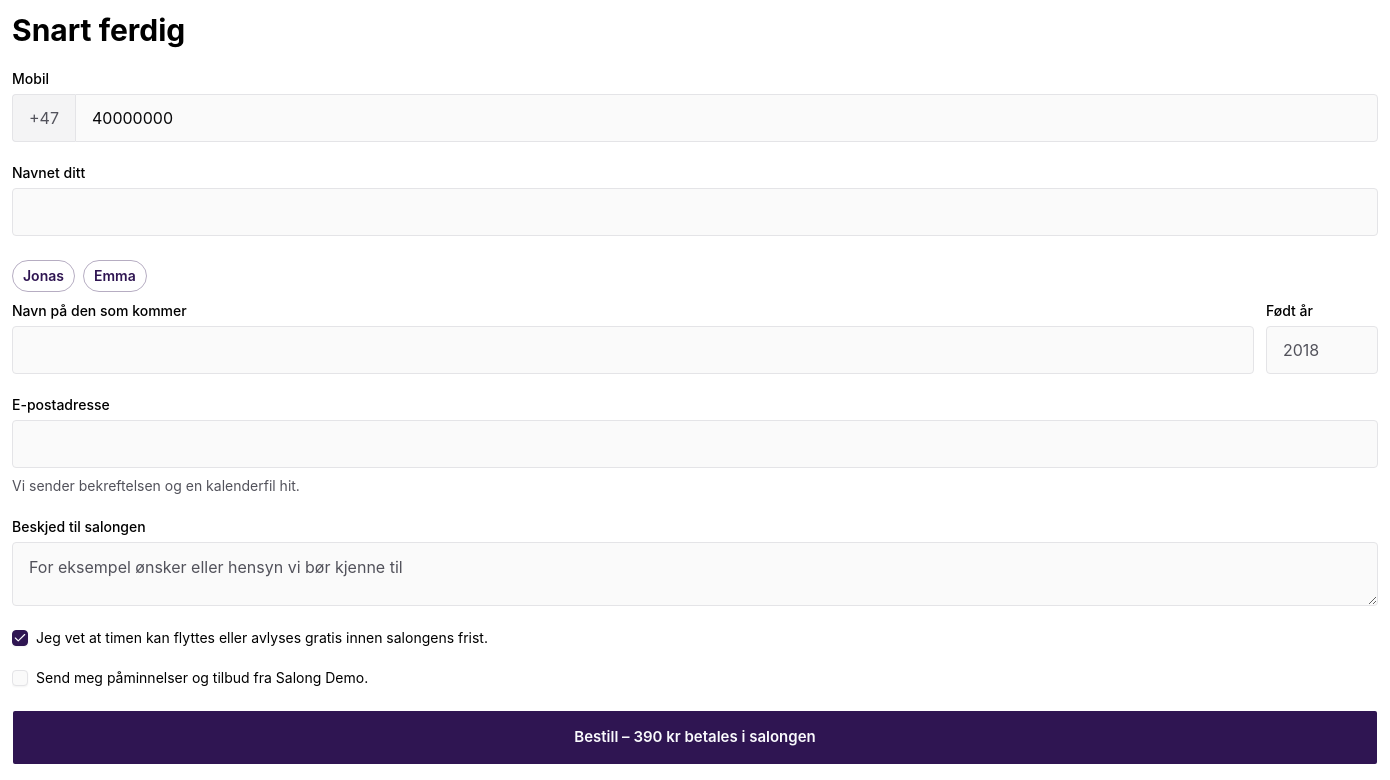
Test: DetailsScreen › the profile suggestions › fills both fields from one tap
Click the button "Emma" at (115, 276), box x1=83 y1=260 x2=147 y2=292
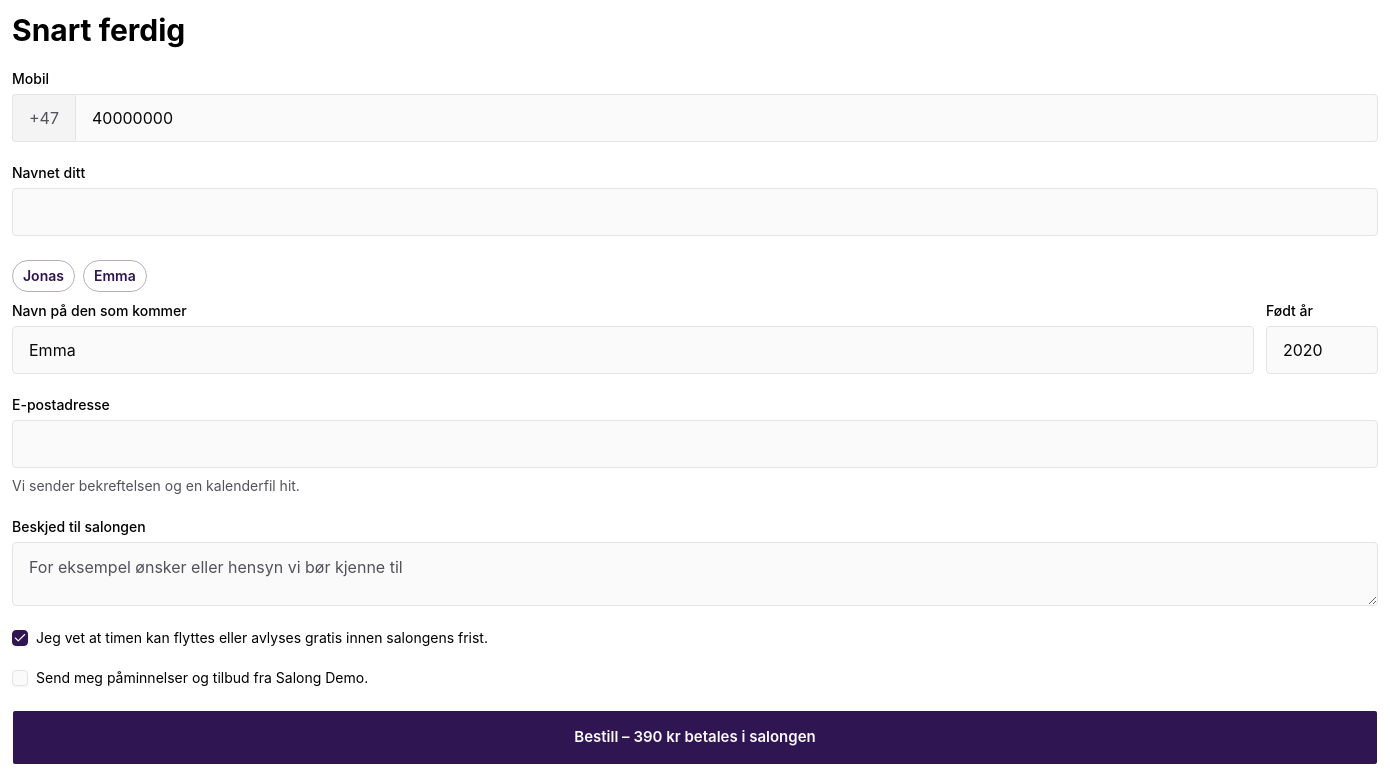
Expected: the field labelled "Navn på den som kommer" holds "Emma", x1=12 y1=326 x2=1254 y2=374
Expected: the field labelled "Født år" holds "2020", x1=1266 y1=326 x2=1378 y2=374
